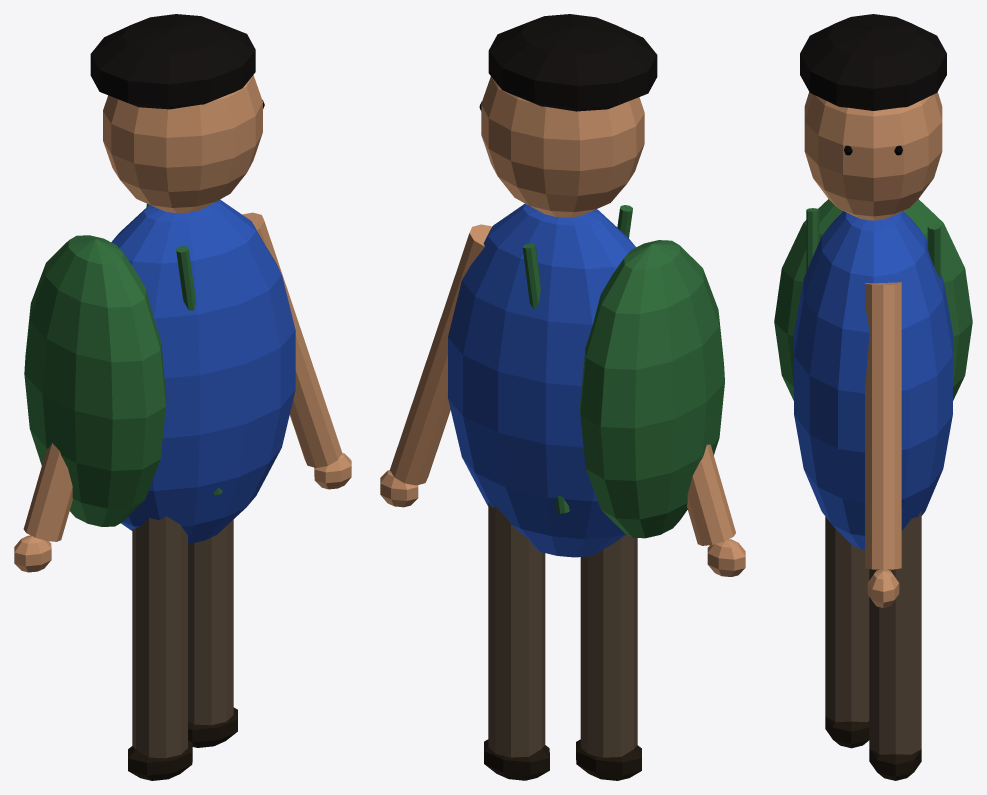
Rendered from backpacker_man.obj.
3 views of the same model, side by side, from view 1: azimuth 30°, elevation 25°; view 2: azimuth 150°, elevation 25°; view 3: azimuth 270°, elevation 25° (orthographic). The views are drawn at different scales.
Parts seen in each view (by area): view 1: man_torso, man_backpack, man_head, man_leg_-0.07, man_hair, man_leg_0.07, man_arm_1, man_arm_-1, man_boot_-0.07, man_hand_-1, man_boot_0.07, man_hand_1 (+1 smaller); view 2: man_torso, man_backpack, man_head, man_leg_0.07, man_hair, man_leg_-0.07, man_arm_1, man_arm_-1, man_boot_-0.07, man_boot_0.07, man_hand_-1, man_right_pack_strap (+1 smaller); view 3: man_torso, man_head, man_hair, man_arm_1, man_leg_0.07, man_leg_-0.07, man_backpack, man_boot_0.07, man_boot_-0.07, man_hand_1, man_left_pack_strap, man_right_pack_strap.
Part boxes in pixels (x1,y1,x2,y2): man_torso: [111, 199, 295, 544]; man_backpack: [24, 235, 166, 526]; man_head: [103, 75, 262, 213]; man_leg_-0.07: [132, 516, 187, 758]; man_hair: [90, 14, 255, 109]; man_leg_0.07: [188, 519, 233, 725]; man_arm_1: [242, 212, 342, 467]; man_arm_-1: [23, 443, 72, 541]; man_boot_-0.07: [128, 740, 192, 780]; man_hand_-1: [14, 535, 51, 572]; man_boot_0.07: [188, 707, 237, 747]; man_hand_1: [314, 453, 351, 489]; man_torso: [448, 203, 635, 557]; man_backpack: [580, 240, 724, 538]; man_head: [481, 76, 644, 217]; man_leg_0.07: [488, 502, 545, 757]; man_hair: [488, 14, 657, 111]; man_leg_-0.07: [580, 534, 637, 757]; man_arm_1: [390, 224, 492, 485]; man_arm_-1: [687, 444, 735, 545]; man_boot_-0.07: [576, 739, 641, 780]; man_boot_0.07: [484, 739, 549, 780]; man_hand_-1: [707, 539, 745, 576]; man_right_pack_strap: [522, 243, 569, 513]; man_torso: [794, 211, 952, 549]; man_head: [804, 92, 942, 220]; man_hair: [800, 14, 946, 110]; man_arm_1: [865, 282, 901, 569]; man_leg_0.07: [869, 511, 921, 754]; man_leg_-0.07: [825, 516, 869, 722]; man_backpack: [774, 199, 972, 400]; man_boot_0.07: [869, 749, 921, 780]; man_boot_-0.07: [825, 716, 869, 748]; man_hand_1: [867, 569, 899, 607]; man_left_pack_strap: [806, 208, 819, 271]; man_right_pack_strap: [927, 222, 940, 278].
Bounding box in the file's own units: 0.7161 × 1.45 × 0.36.
